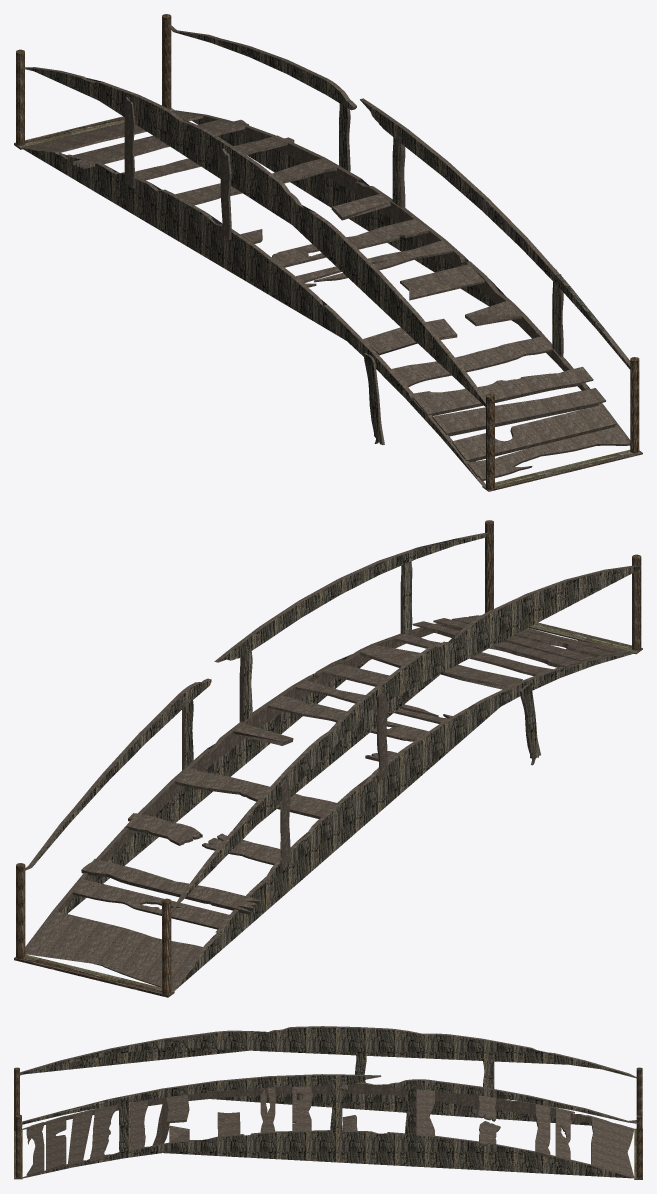
File: Wooden Bridge.obj
3 renders of one model, top to bottom at view 1: azimuth 30°, elevation 25°; view 2: azimuth 150°, elevation 25°; view 3: azimuth 270°, elevation 25°, orthographic. The views are drawn at different scales.
Visible parts, largest first — view 1: Mesh1 Model, Mesh4 Model, Mesh2 Model, Mesh3 Model; view 2: Mesh1 Model, Mesh4 Model, Mesh3 Model, Mesh2 Model; view 3: Mesh1 Model, Mesh4 Model, Mesh3 Model.
Part boxes in pixels (x1=…): Mesh1 Model: x1=14, y1=14, x2=642, y2=491; Mesh4 Model: x1=167, y1=24, x2=356, y2=110; Mesh2 Model: x1=331, y1=193, x2=390, y2=220; Mesh3 Model: x1=135, y1=158, x2=200, y2=180; Mesh1 Model: x1=14, y1=520, x2=642, y2=997; Mesh4 Model: x1=25, y1=678, x2=211, y2=870; Mesh3 Model: x1=202, y1=833, x2=280, y2=865; Mesh2 Model: x1=231, y1=723, x2=293, y2=745; Mesh1 Model: x1=14, y1=1026, x2=642, y2=1179; Mesh4 Model: x1=389, y1=1079, x2=639, y2=1123; Mesh3 Model: x1=478, y1=1095, x2=496, y2=1121.
Bounding box in the file's own units: 260 × 271 × 1232.
Materials: 4 (4 with a texture image).
